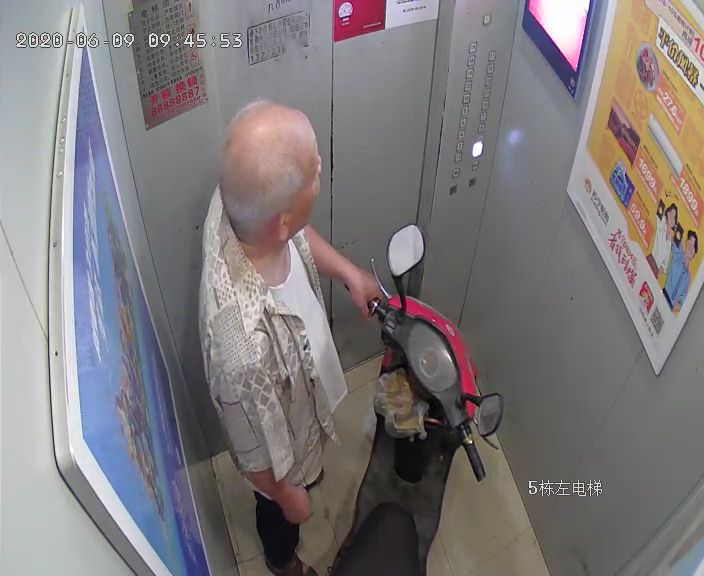Electric-bicycle: (338, 217, 484, 575)
